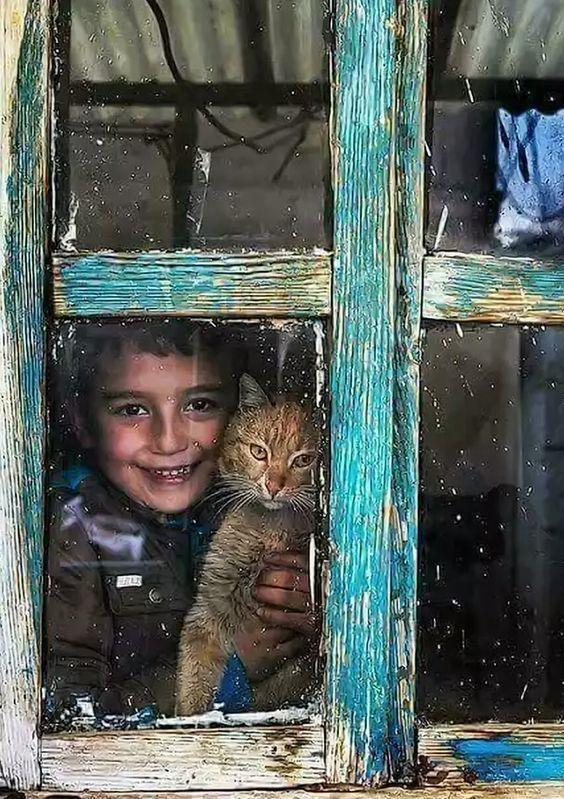kedo: (173, 367, 333, 718)
